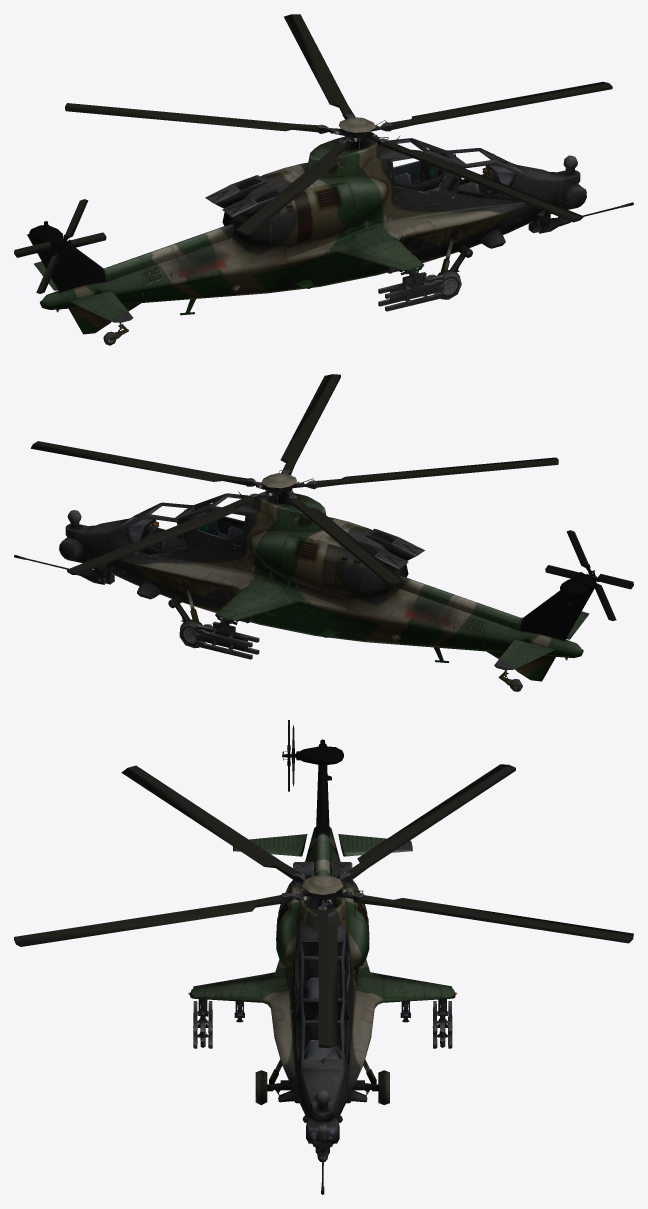
3 renders of one model, top to bottom at view 1: azimuth 30°, elevation 25°; view 2: azimuth 150°, elevation 25°; view 3: azimuth 270°, elevation 25°, orthographic. The views are drawn at different scales.
Parts seen in each view (by area): view 1: g_z10_hull, g_z10_rotor, g_z10_rotor2; view 2: g_z10_hull, g_z10_rotor, g_z10_rotor2; view 3: g_z10_hull, g_z10_rotor.
Part boxes in pixels (<box>): g_z10_hull: <box>27,114,633,345</box>; g_z10_rotor: <box>65,14,612,234</box>; g_z10_rotor2: <box>14,199,106,293</box>; g_z10_hull: <box>14,470,599,691</box>; g_z10_rotor: <box>30,374,558,585</box>; g_z10_rotor2: <box>545,530,633,620</box>; g_z10_hull: <box>188,739,456,1194</box>; g_z10_rotor: <box>14,764,633,1047</box>.
Bounding box in the file's own units: 14.7 × 3.92 × 11.34.
3 materials, 3 textured.
